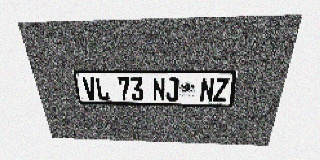3: (130, 77, 144, 101)
7: (117, 77, 131, 101)
J: (166, 77, 179, 101)
L: (94, 77, 110, 100)
N: (199, 77, 215, 102), (152, 77, 165, 101)
V: (82, 77, 98, 100)
Z: (213, 77, 229, 102)
